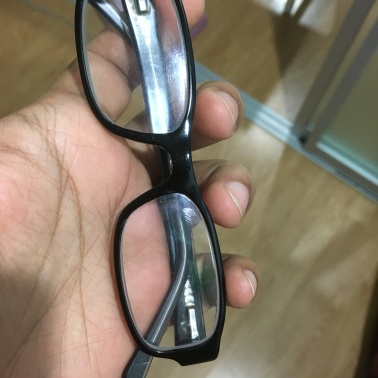glasses: (56, 10, 272, 378)
